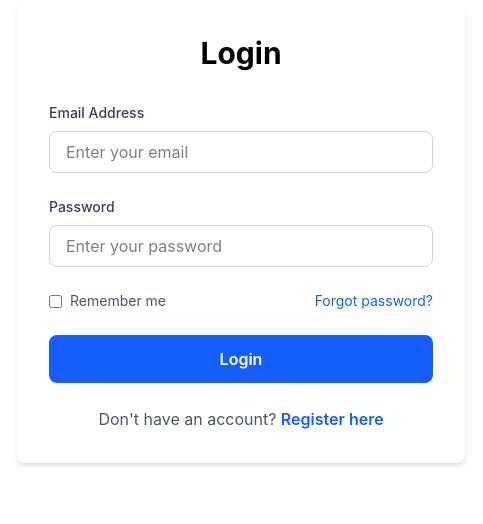
Test: LoginPage › should show validation errors for empty fields
The width and height of the screenshot is (483, 524).
Click the button "Login" at (241, 359), box x1=49 y1=335 x2=433 y2=383
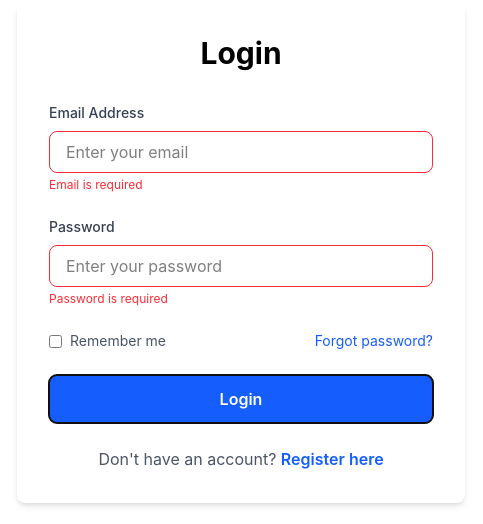
Now the text "Email is required" is shown, box x1=49 y1=177 x2=143 y2=192
Now the text "Password is required" is shown, box x1=49 y1=291 x2=168 y2=306
